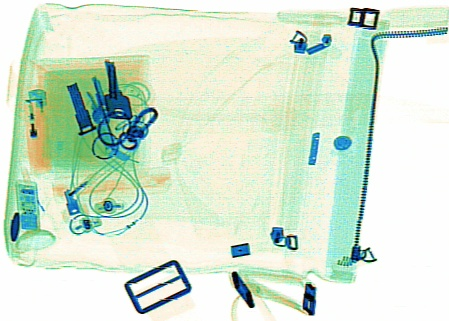lighter: (21, 87, 53, 174)
